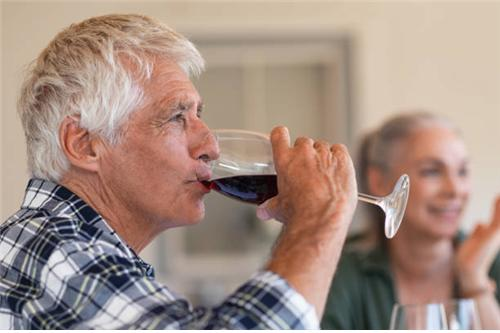alcohol: (198, 128, 411, 238)
